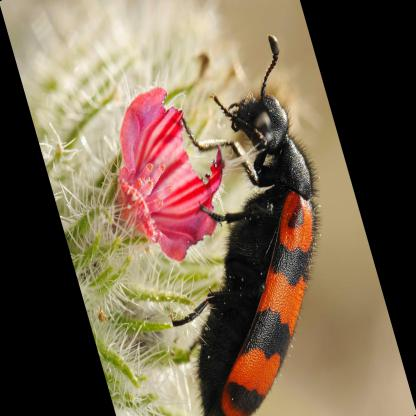blister beetle: (178, 35, 316, 415)
